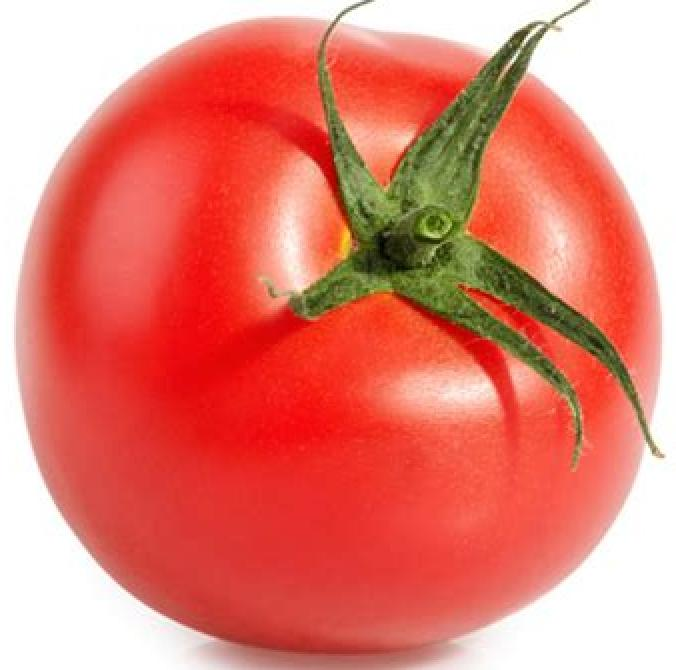tomato: (20, 23, 654, 652)
